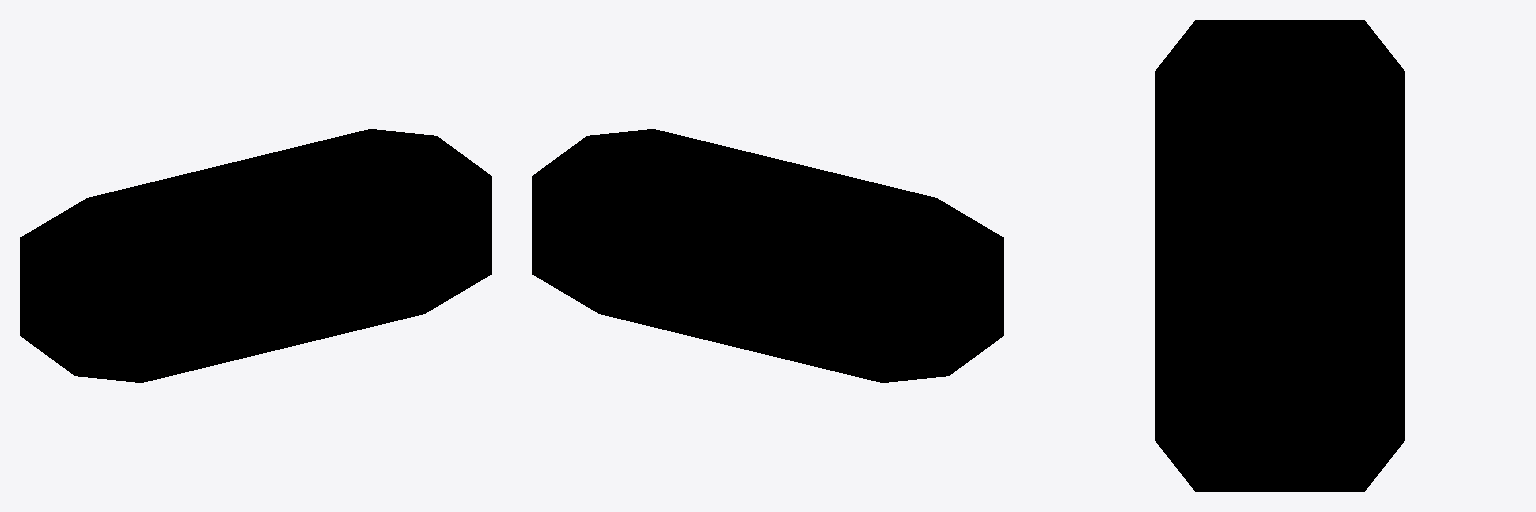
robot.urdf — cube_holes:
<?xml version="1.0" ?>
<robot name="cube_holes">
  <link name="baseLink">
    <contact>
            <restitution value="0.5" />
	          <rolling_friction value="0.03"/>
            <spinning_friction value="0.03"/>
            <rolling_friction value="0.53"/>
            <spinning_friction value="0.53"/>
    </contact>
    <inertial>
      <origin rpy="0 0 0" xyz="0.0001 0.0 0.0"/>
       <mass value="10.084"/>
       <inertia ixx="0.0053" ixy="9e-05" ixz="0.00014" iyy="0.00534" iyz="0.0003" izz="0.00155"/>
    </inertial>
    <visual>
      <origin rpy="0 0 0" xyz="0.0001 0.0 0.0"/>
      <geometry>
        <mesh filename="../obj/cube_holes.obj" scale=".003 .001 .001"/>
      </geometry>
       <material name="black">
        <color rgba="0 0 0 1"/>
      </material>
    </visual>
    <collision>
      <origin rpy="0 0 0" xyz="0.0001 0.0 0.0"/>
      <geometry>
	 	<mesh filename="../obj/cube_holes.obj" scale=".003 .001 .001"/>
      </geometry>
    </collision>
  </link>
</robot>

--- Facts derived from the render (not from the file) ---
Views: 3 orthographic renders of the robot side by side, from view 1: azimuth 30°, elevation 25°; view 2: azimuth 150°, elevation 25°; view 3: azimuth 270°, elevation 25°.
Robot: cube_holes — 1 links, 0 joints (none); root link baseLink; default pose: every joint at zero.
Links seen in each view (by area): view 1: baseLink; view 2: baseLink; view 3: baseLink.
Link boxes in pixels (x1,y1,x2,y2): baseLink: (20,129,491,382); baseLink: (532,129,1003,382); baseLink: (1155,20,1404,491).
Bounding box of the posed robot: 0.15 × 0.05 × 0.05 m (x, y, z).
1 mesh visuals loaded from 1 distinct referenced files (1 OBJ).
